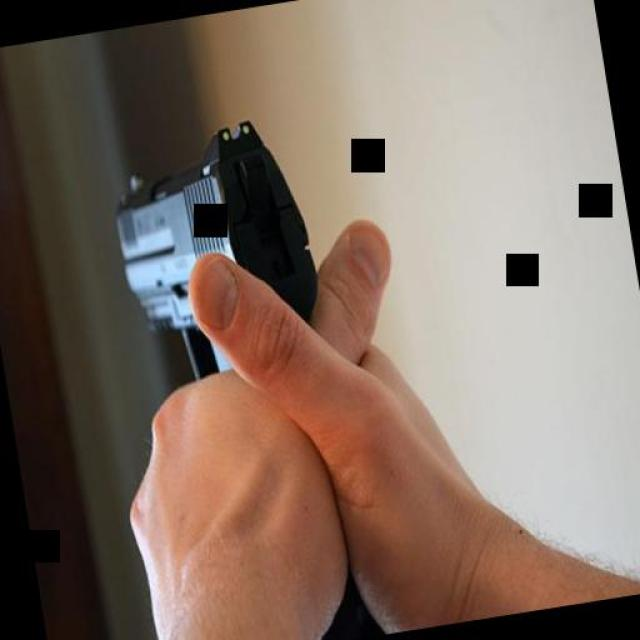gun: (96, 101, 382, 640)
